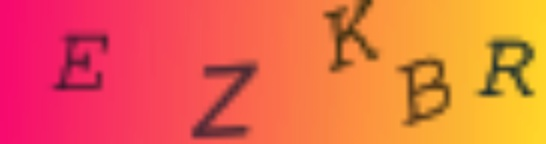B: (392, 54, 455, 129)
E: (49, 32, 119, 95)
K: (321, 1, 384, 74)
R: (478, 35, 542, 104)
Z: (188, 54, 262, 144)
